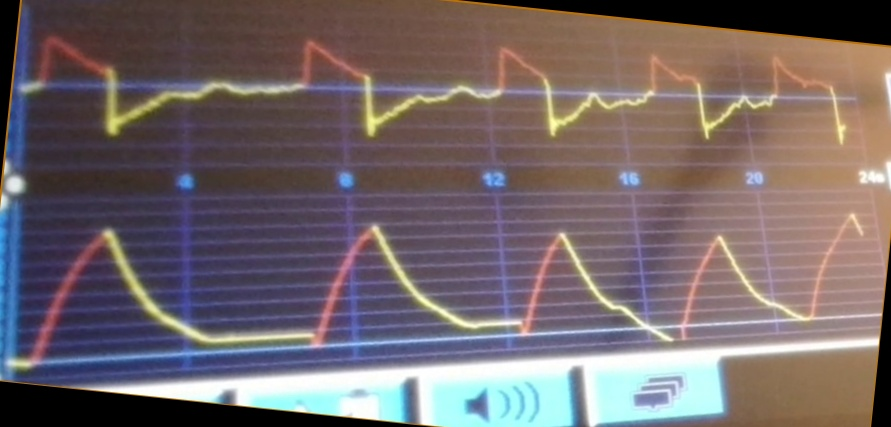Ineffective_effort Flow: (31, 32, 848, 150)
Ineffective_effort Volume: (18, 207, 868, 359)
